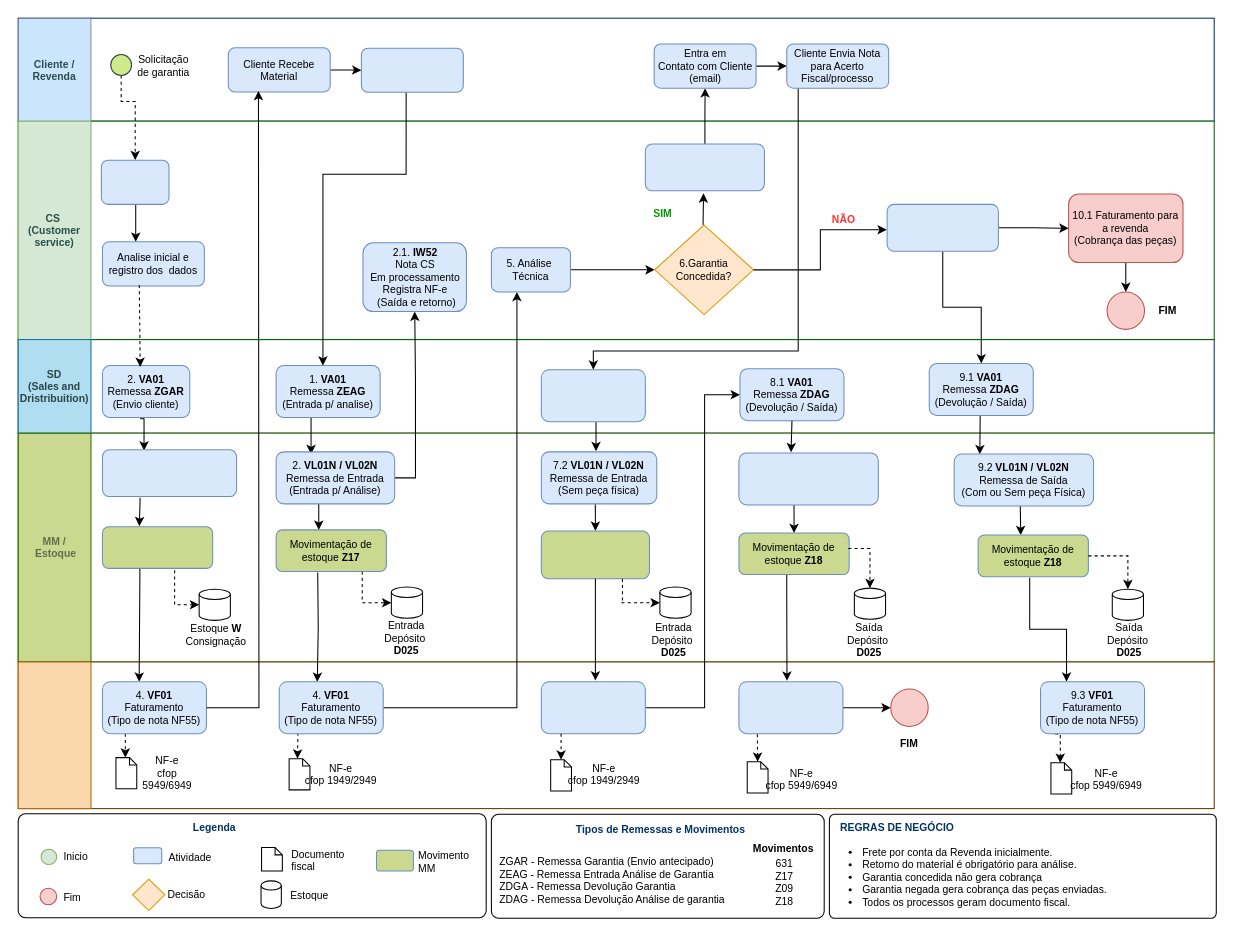
Some shapes in this 1234 by 950 pixel diagram are drawn without their labels. The centre of each missing label's shape, as x and y in pixels:
"1. IW51 Notificação de serviço" goes at (x=134, y=181).
"3. VL01N / VL02N Remessa de saída (Estoque W - consignação)" goes at (x=169, y=473).
"7. IW52 Nota CS Encerrada Descrição (Concedida)" goes at (x=704, y=167).
"7.1 VA01 Remessa ZDGA (Acerto fiscal)" goes at (x=592, y=395).
"7.4 VF01 Faturamento (Tipo de nota NF55)" goes at (x=592, y=707).
"8.2 VL01N / VL02N Remessa de Saída (Sem peça Física)" goes at (x=808, y=478).
"8.3 VF01 Faturamento (Tipo de nota NF55)" goes at (x=790, y=707).
"9. IW52 Nota CS Encerrada Descrição (Negada)" goes at (x=942, y=227).
"Envia Material com problema/defeito" goes at (x=411, y=69).
"Fiscal / Contábil" goes at (x=54, y=735).
"Movimentação de estoque 631" goes at (x=157, y=547).
"Movimentação de estoque Z09 (Acerto Fiscal)" goes at (x=594, y=554).
